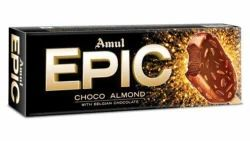Amul: (90, 36, 126, 49)
